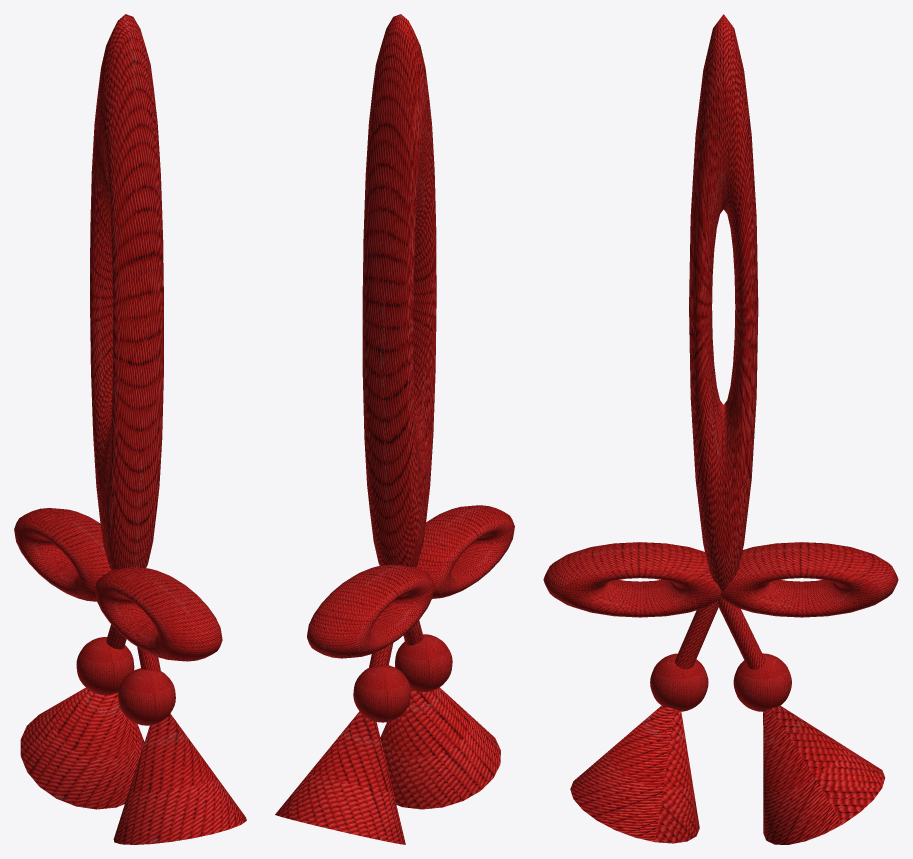
File: lazo.obj
The picture shows the model from 3 angles, left to right: view 1: azimuth 30°, elevation 25°; view 2: azimuth 150°, elevation 25°; view 3: azimuth 270°, elevation 25°; orthographic projection.
Visible parts, largest first — view 1: pTorus3; view 2: pTorus3; view 3: pTorus3.
Boxes of the visible parts, x1,y1,x2,y2 form: pTorus3: [14, 14, 246, 844]; pTorus3: [275, 14, 514, 844]; pTorus3: [543, 14, 898, 844].
Bounding box in the file's own units: 0.6599 × 4.34 × 1.72.
1 material, 1 textured.
